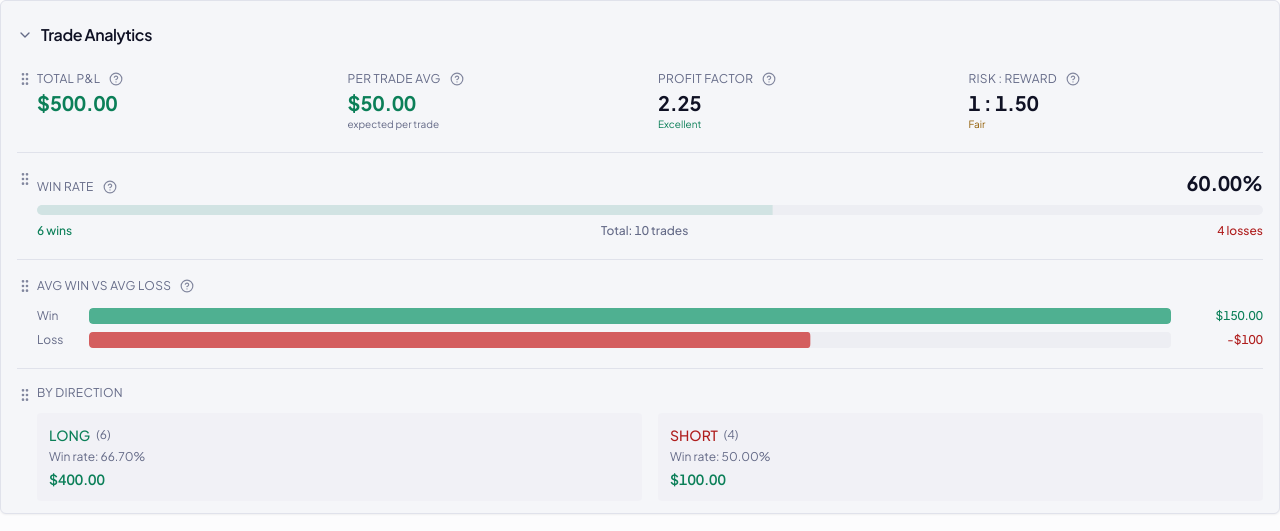
Test: TradeStatsCard accessibility › opens each definition from a help button named after its term
The image size is (1280, 531).
Step 1. Click the button named "Help: Win Rate" → (110, 187), box [92,169,128,205]
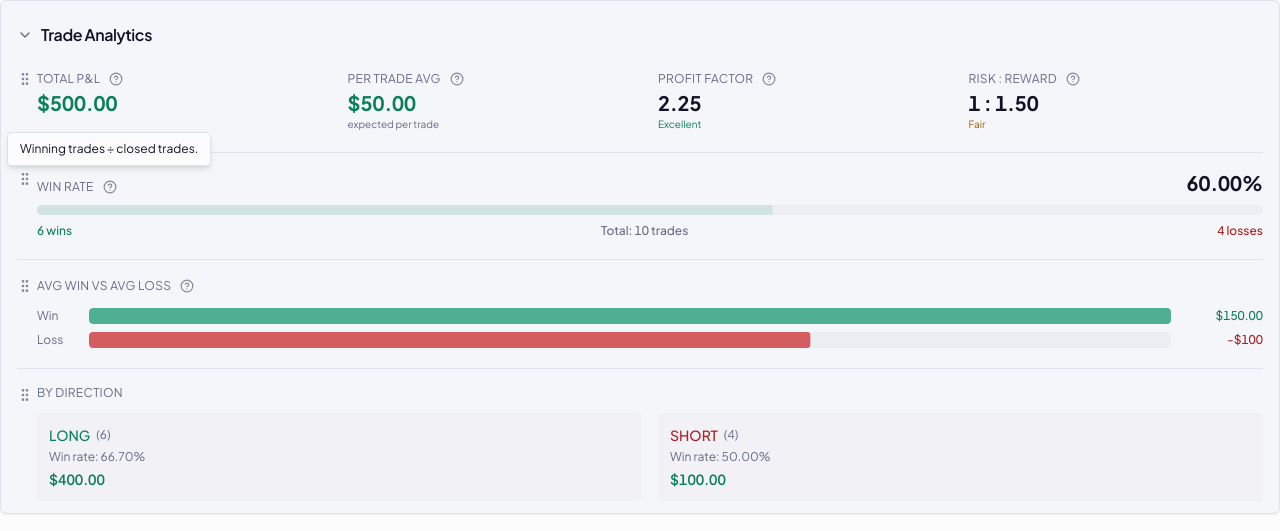
Now the tooltip reads "Winning trades ÷ closed trades.", box [20,141,198,156]
